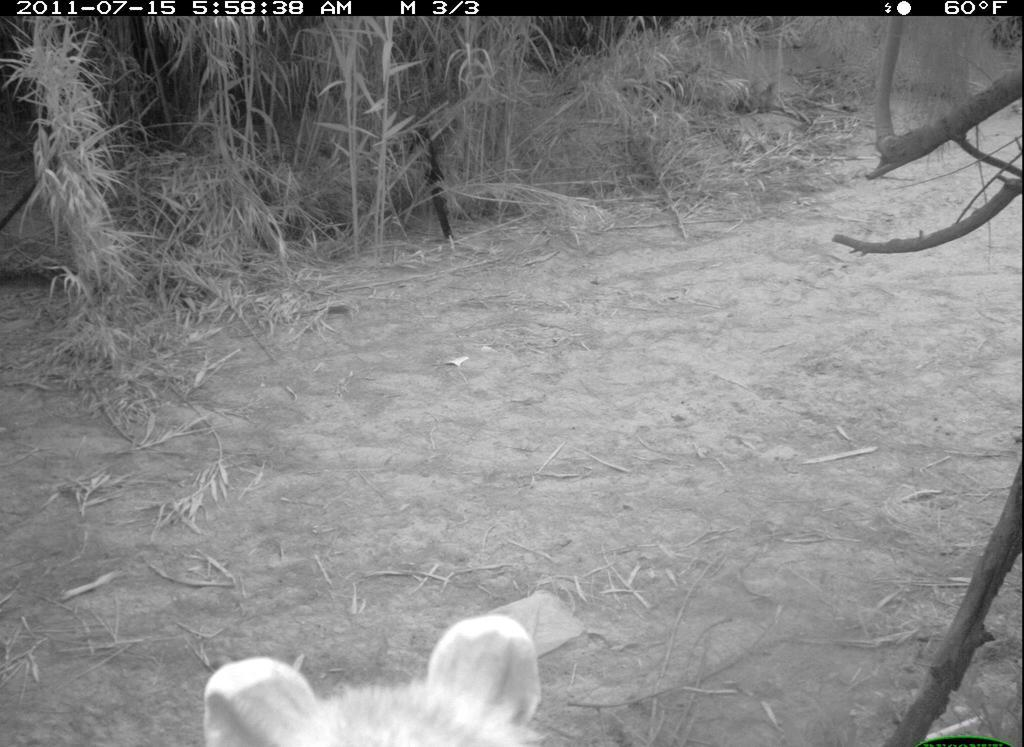opossum: (161, 610, 591, 747)
